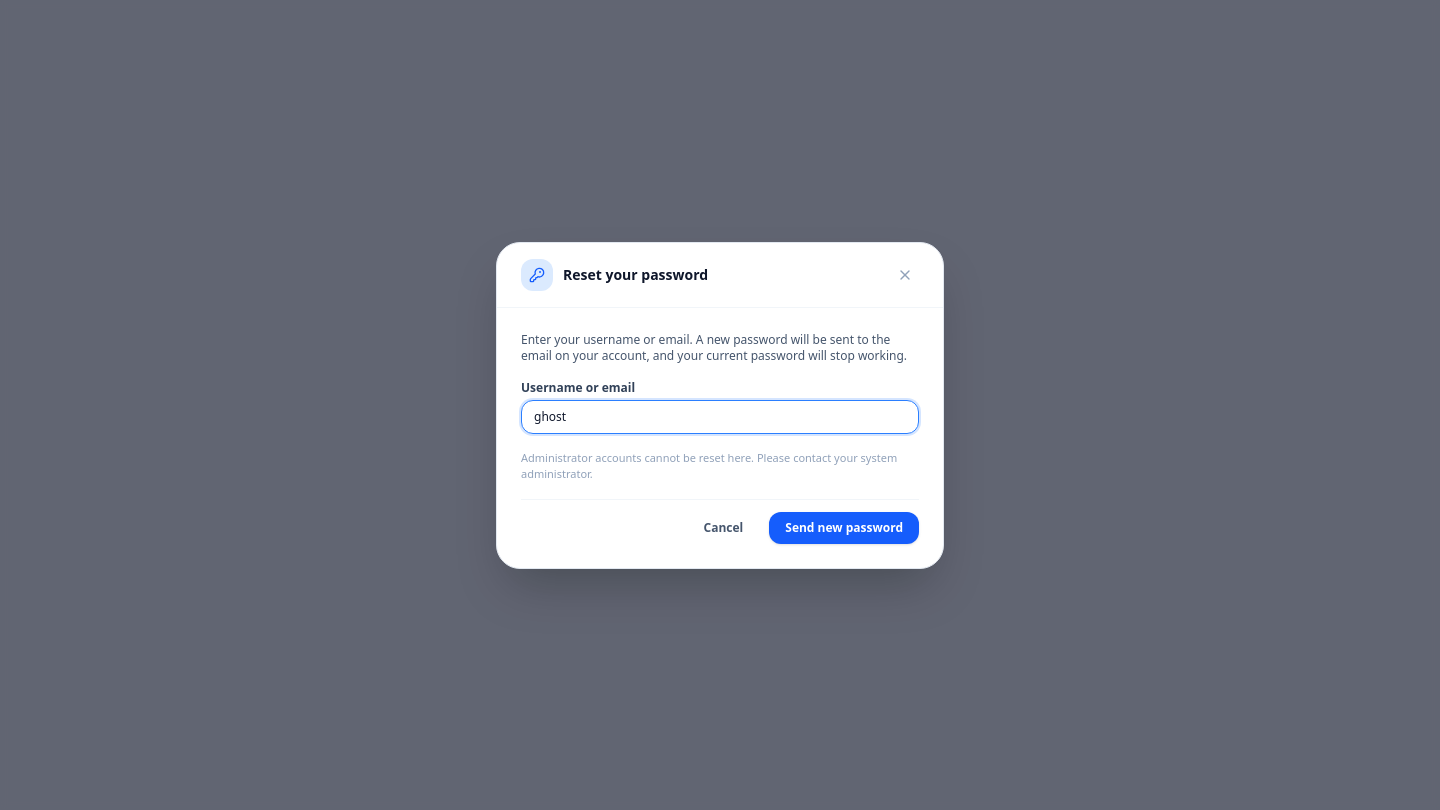
shows an error and no confirmation when the account does not exist
Click the button "Send new password" at (844, 528), box [769,512,919,544]
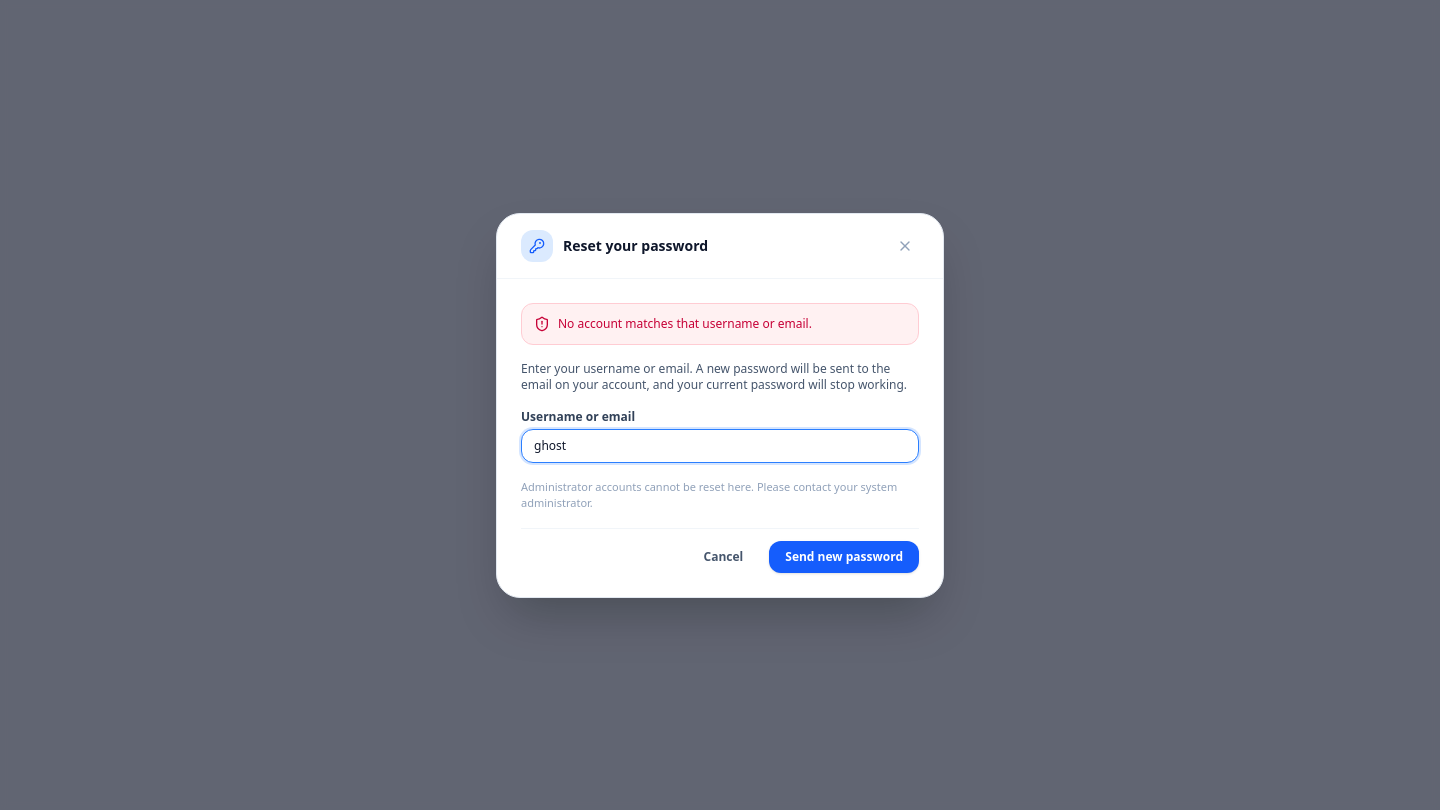
Expected: the button "Send new password" is shown, [769,540,919,572]
Expected: the text "No account matches that username or email." is shown, [558,316,812,332]
